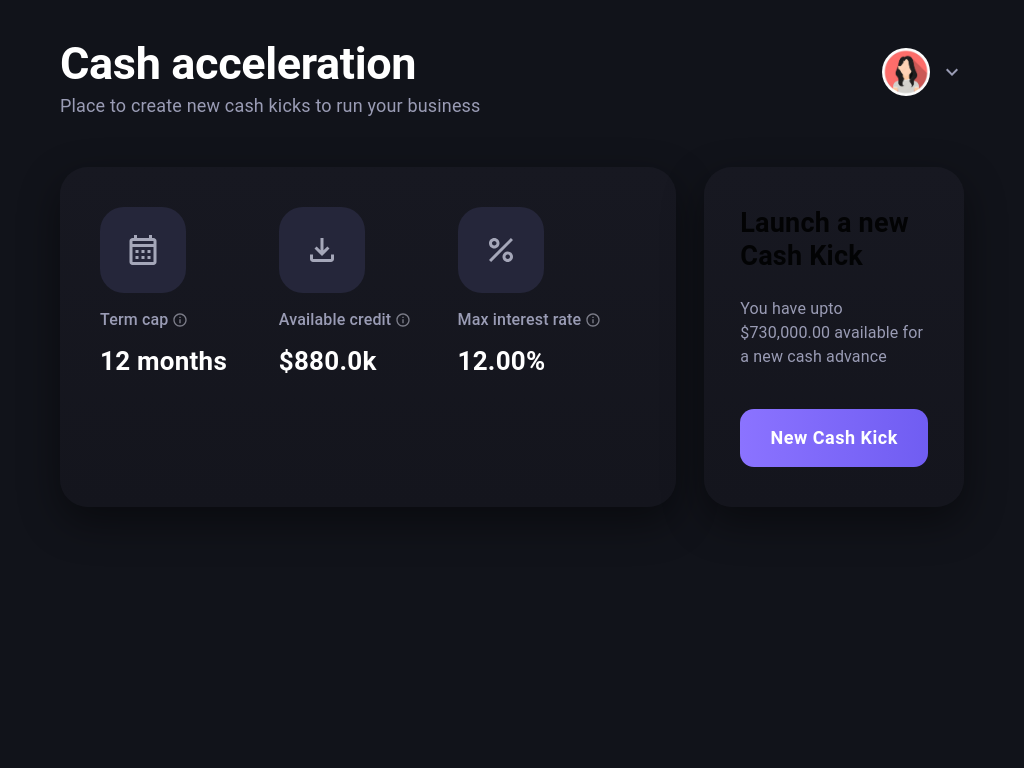
Test: DashboardTemplate Component › should close the modal when cancel button is clicked
This screenshot has width=1024, height=768.
Click the button "New Cash Kick" at (834, 438), box left=740, top=409, right=928, bottom=467
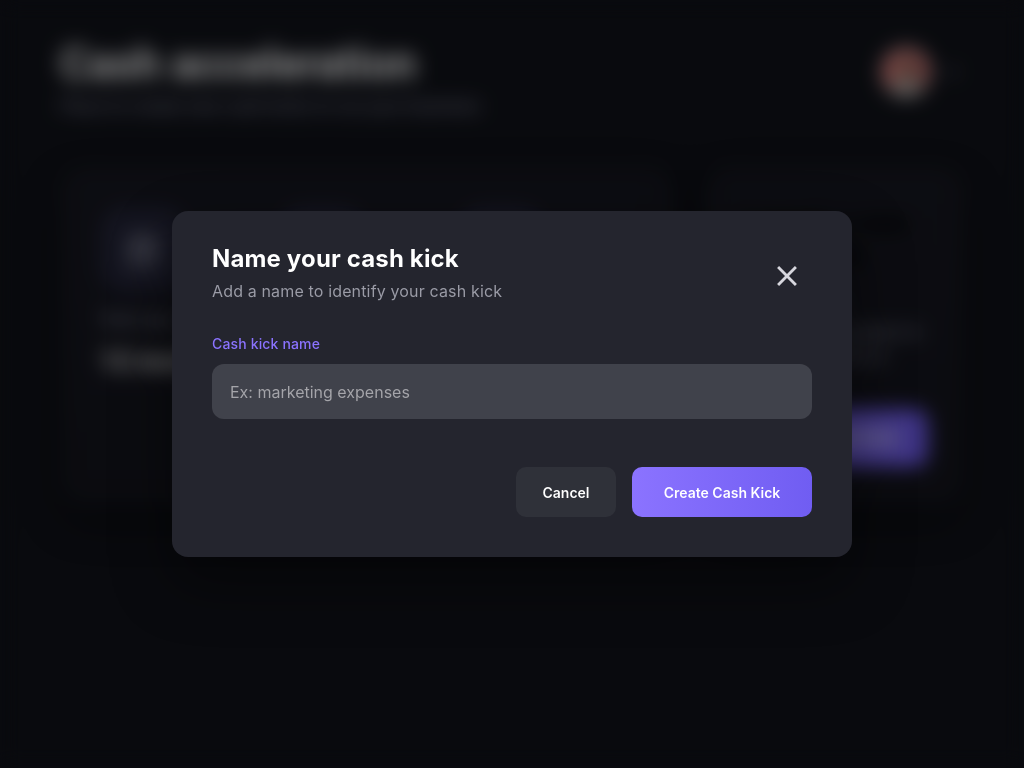
Expected: the heading "Name your cash kick" is shown, left=212, top=251, right=502, bottom=267
Click the button "Cancel" at (566, 492), box left=516, top=467, right=616, bottom=517
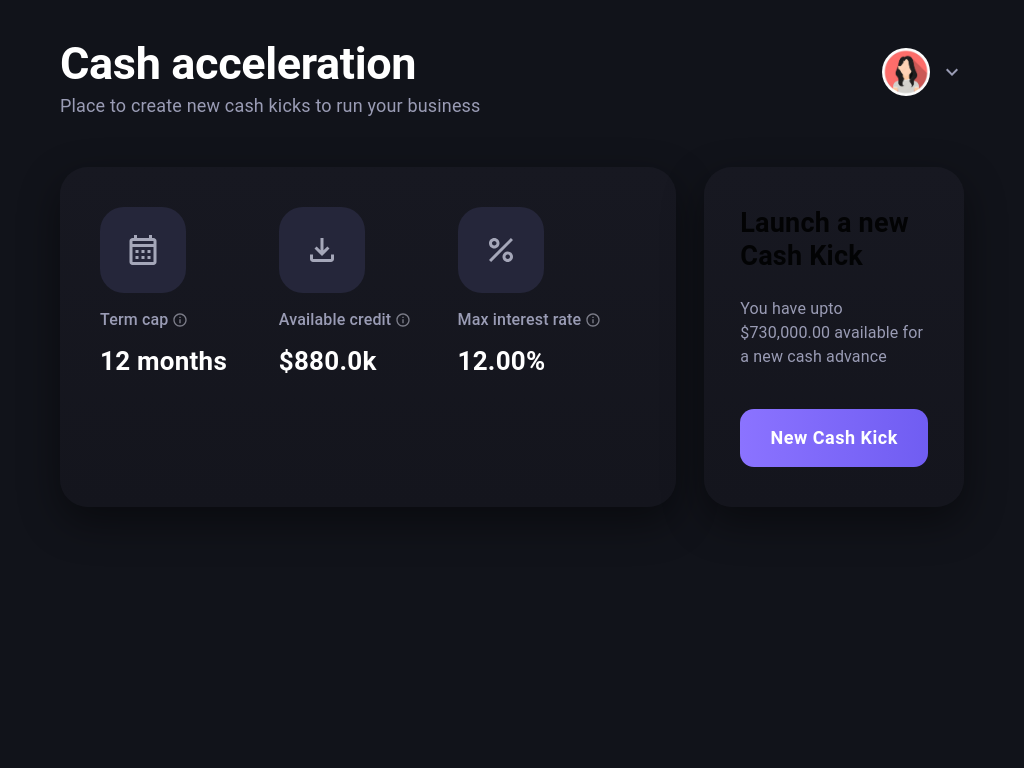
Expected: the heading "Name your cash kick" is gone
